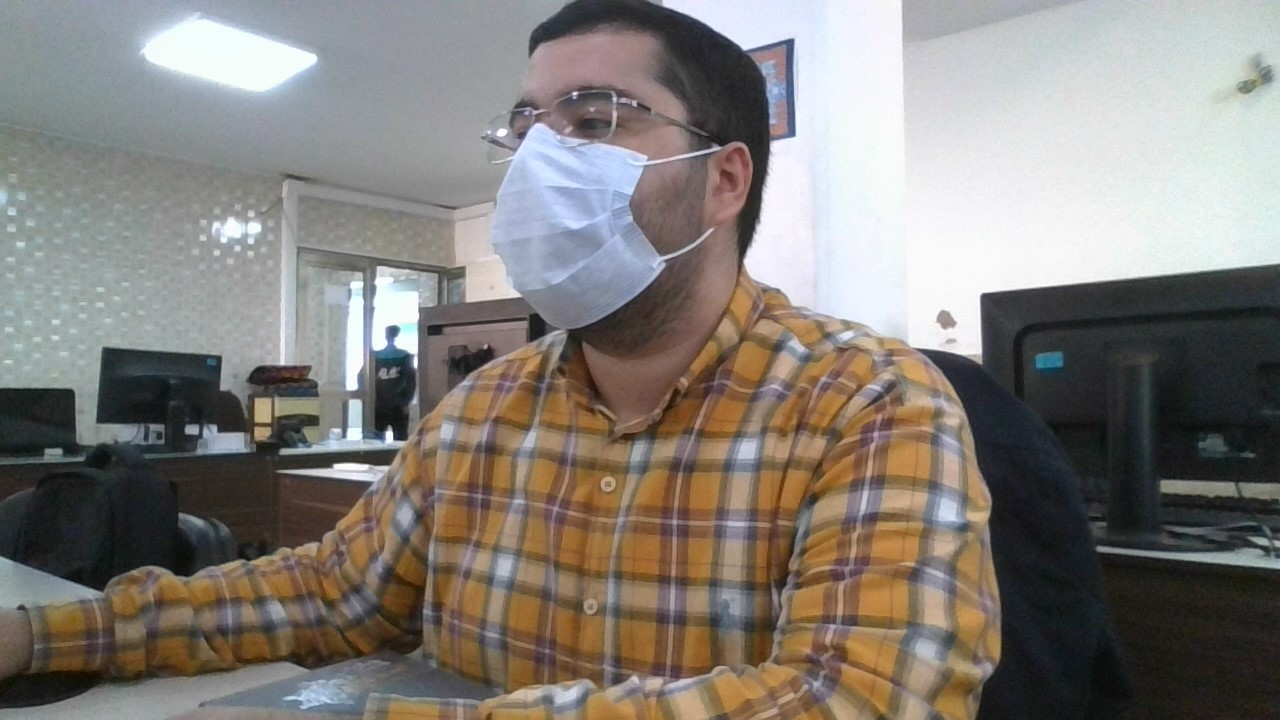Mask: (486, 123, 716, 333)
